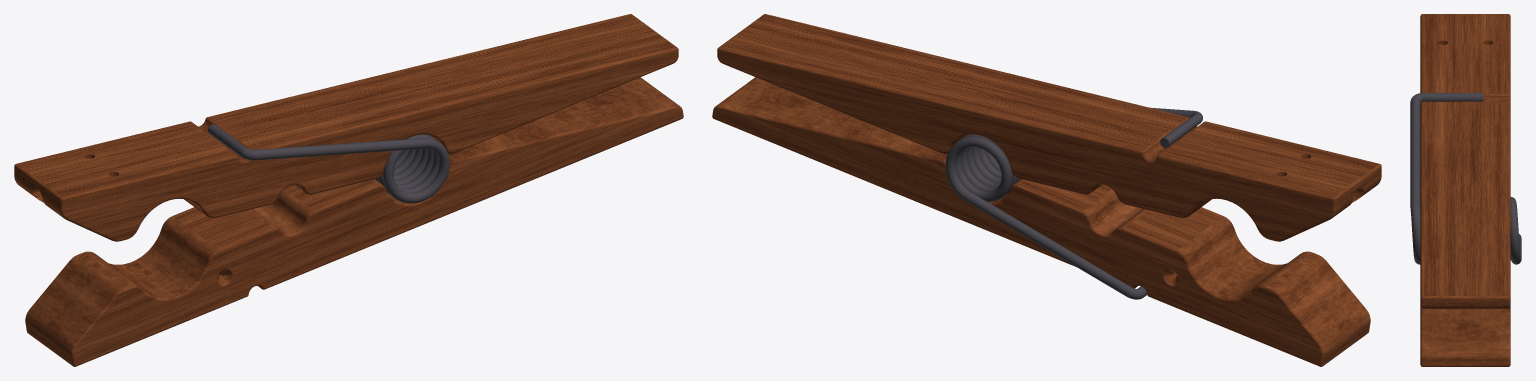
File: ClothesPin.fbx
3 renders of one model, left to right at view 1: azimuth 30°, elevation 25°; view 2: azimuth 150°, elevation 25°; view 3: azimuth 270°, elevation 25°, orthographic. The views are drawn at different scales.
Parts seen in each view (by area): view 1: Clothespin_Drummer_(clothespin_wood1)-1, Body_1, Body_1_2; view 2: Clothespin_Drummer_(clothespin_wood1)-1, Body_1, Body_1_3, Body_1_2; view 3: Clothespin_Drummer_(clothespin_wood1)-1, Body_1, Body_1_2, Body_1_3.
Boxes of the visible parts, box(x1,y1,x2,y2) form: Clothespin_Drummer_(clothespin_wood1)-1: box(14, 14, 678, 241); Body_1: box(25, 77, 683, 366); Body_1_2: box(208, 124, 449, 203); Clothespin_Drummer_(clothespin_wood1)-1: box(717, 14, 1381, 241); Body_1: box(712, 77, 1370, 366); Body_1_3: box(945, 134, 1147, 299); Body_1_2: box(969, 107, 1202, 186); Clothespin_Drummer_(clothespin_wood1)-1: box(1420, 14, 1510, 308); Body_1: box(1420, 307, 1510, 366); Body_1_2: box(1410, 93, 1483, 264); Body_1_3: box(1510, 197, 1521, 264).
Bounding box in the file's own units: 6.75 × 1.84 × 1.11.
